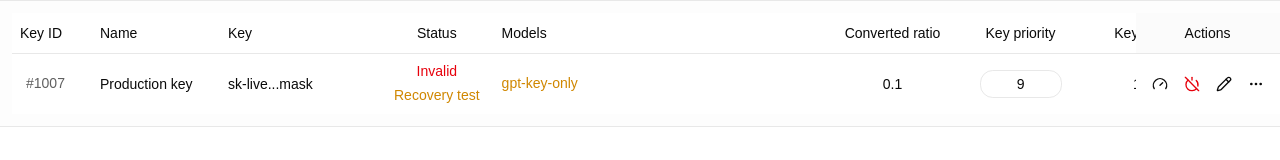
it: 没有健康样本时 Tooltip 继续显示原因
Step 1. Hover over the text "Invalid" → x=437, y=72, box [417,61,457,82]
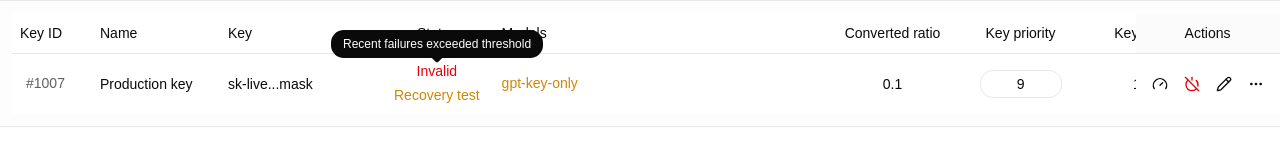
Expected: the text "Recent failures exceeded threshold" is shown, [331,30,543,58]
